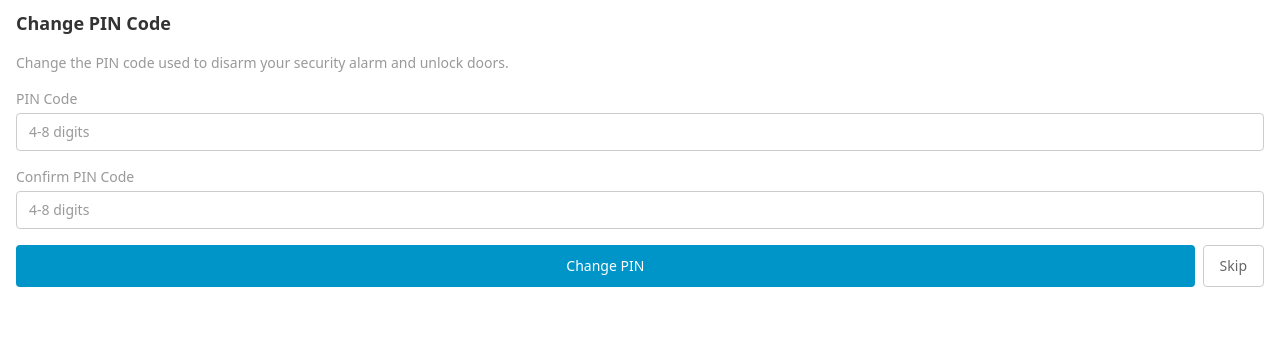
Scenario: ChangePinPanel › shows error on failure
The image size is (1280, 340).
Type "1234" into the password field labelled "PIN Code". click: point(640, 132)
box: [16,113,1264,151]
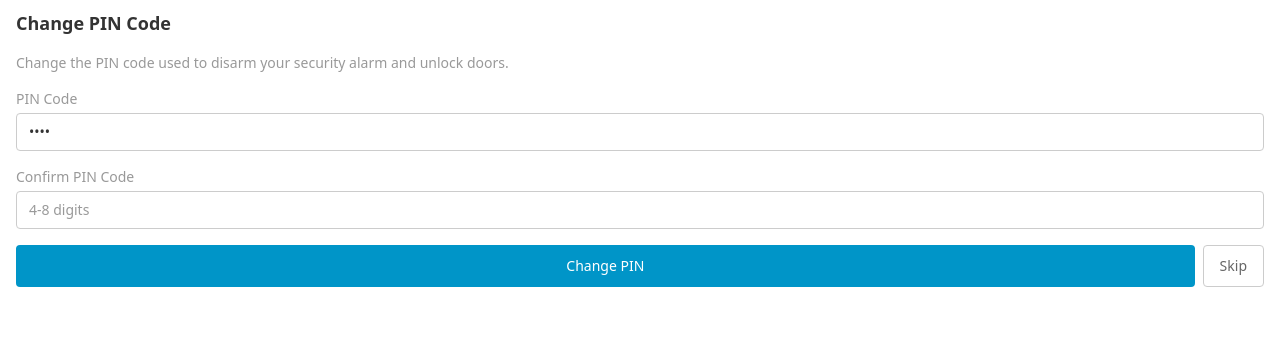
Type "1234" into the password field labelled "Confirm PIN Code". click: point(640, 210)
box: [16,191,1264,229]
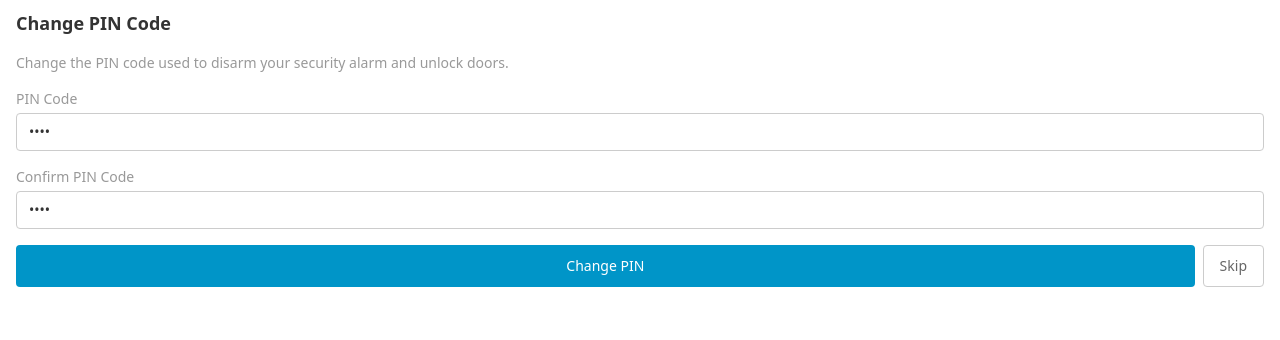
Click the button "Change PIN". click: point(605, 266)
box: [16,245,1195,287]
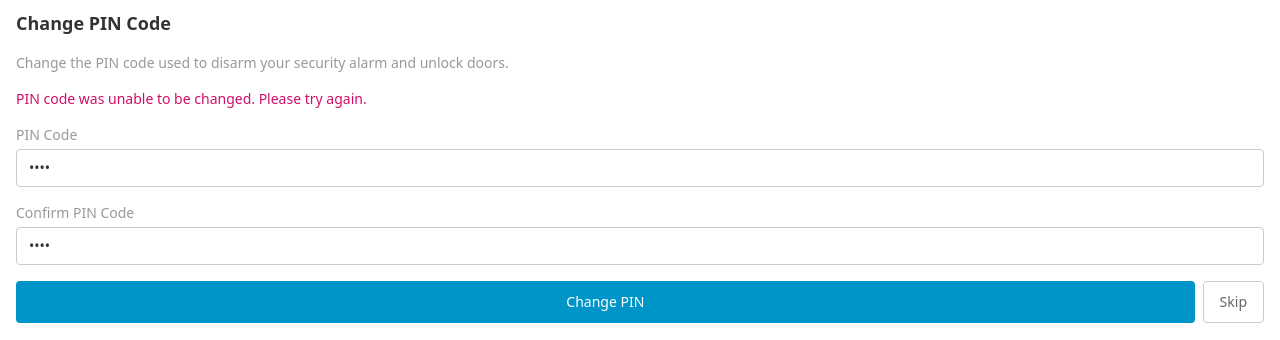
Check: the text "PIN code was unable to be changed. Please try again." is shown, box [16,89,367,108]
